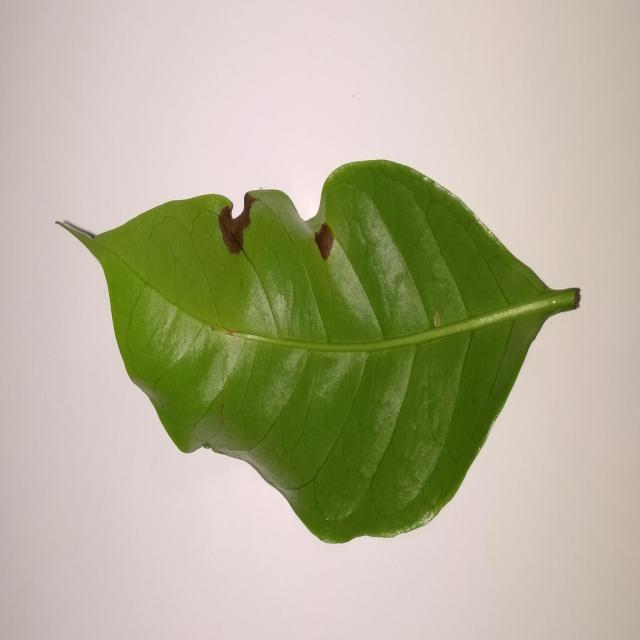Enfermedad-Antracnosis: (55, 159, 582, 548)
